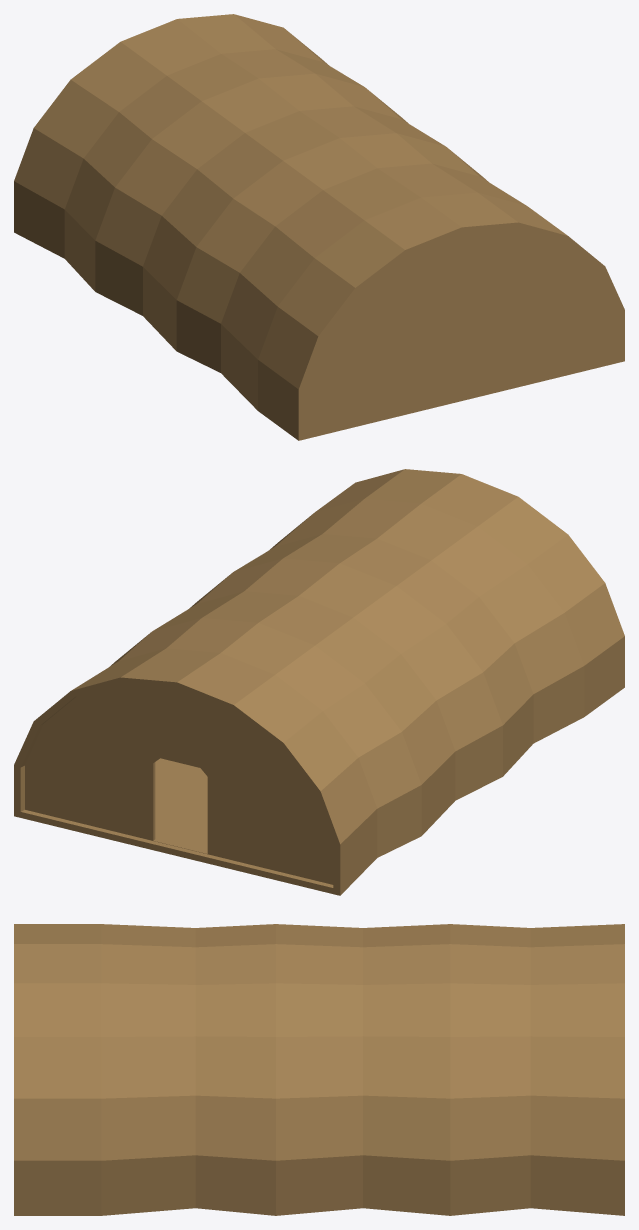
Rendered from Tent.fbx.
3 renders of one model, top to bottom at view 1: azimuth 30°, elevation 25°; view 2: azimuth 150°, elevation 25°; view 3: azimuth 270°, elevation 25°, orthographic. The views are drawn at different scales.
Visible parts, largest first — view 1: Tent; view 2: Tent; view 3: Tent.
Part boxes in pixels (bbox=[...]): Tent: bbox=[14, 14, 624, 440]; Tent: bbox=[14, 469, 624, 895]; Tent: bbox=[14, 924, 624, 1215].
Size of the model in its own units: 6395 by 3254 by 9665.
